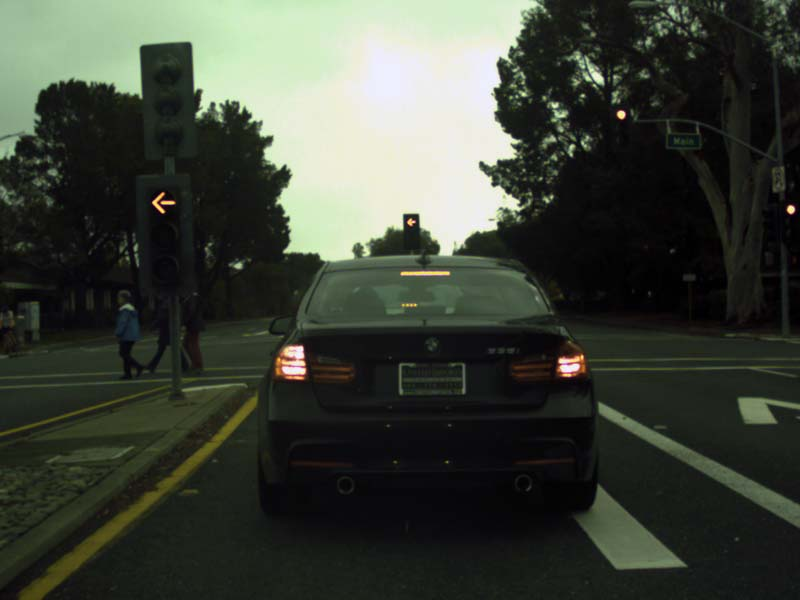Red: (138, 177, 192, 291), (610, 106, 632, 150), (403, 214, 419, 247)
